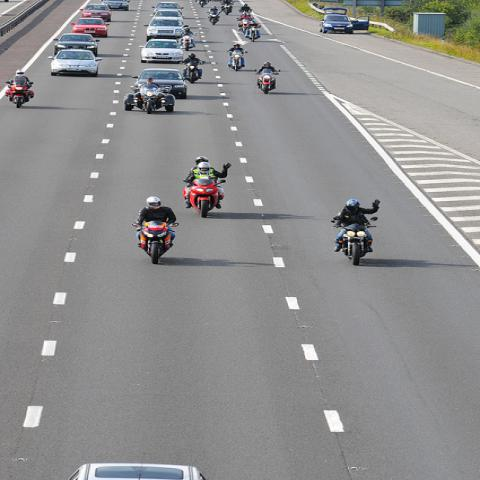car: (69, 465, 203, 479), (44, 48, 104, 77), (131, 68, 188, 98), (318, 7, 370, 34), (51, 32, 100, 56), (140, 39, 184, 64), (144, 17, 184, 41), (71, 18, 110, 37), (79, 4, 113, 22), (153, 0, 183, 14), (102, 0, 131, 11)
motorcycle: (182, 175, 226, 219), (342, 216, 378, 266), (123, 83, 178, 115), (137, 221, 170, 266), (5, 75, 34, 107), (176, 59, 206, 84), (253, 69, 282, 94), (224, 49, 249, 71), (178, 33, 198, 51), (246, 26, 262, 43), (236, 16, 251, 32), (206, 10, 222, 25), (238, 9, 252, 16)
